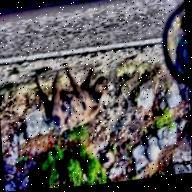boar: (32, 62, 111, 142)
